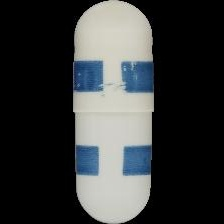0025-1520: (0, 0, 224, 224)
